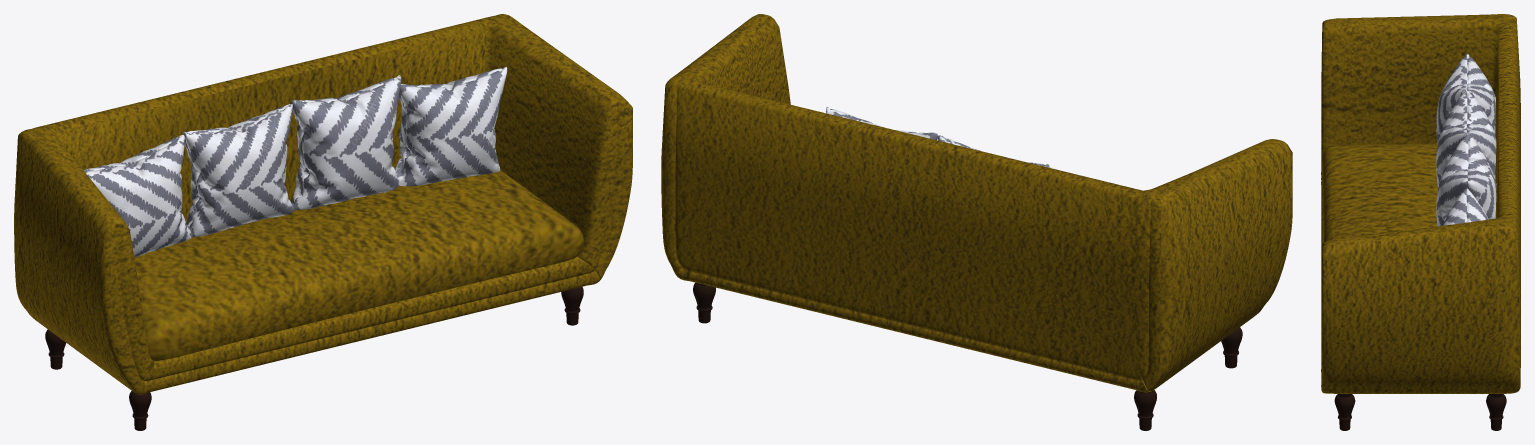
3 views of the same model, side by side, from view 1: azimuth 30°, elevation 25°; view 2: azimuth 150°, elevation 25°; view 3: azimuth 270°, elevation 25° (orthographic). The views are drawn at different scales.
Visible parts, largest first — view 1: couch, seat, pillow_03_geo, Legs_02_geo; view 2: couch, Legs_02_geo, pillow_03_geo; view 3: couch, seat, pillow_03_geo, Legs_02_geo.
Boxes of the visible parts, left/top/right/bottom form: couch: left=14, top=14, right=632, bottom=394; seat: left=134, top=170, right=583, bottom=360; pillow_03_geo: left=83, top=66, right=507, bottom=257; Legs_02_geo: left=45, top=287, right=583, bottom=430; couch: left=661, top=14, right=1292, bottom=392; Legs_02_geo: left=693, top=282, right=1242, bottom=430; pillow_03_geo: left=826, top=107, right=1055, bottom=169; couch: left=1321, top=14, right=1520, bottom=393; seat: left=1322, top=143, right=1438, bottom=242; pillow_03_geo: left=1436, top=54, right=1496, bottom=226; Legs_02_geo: left=1334, top=394, right=1506, bottom=430.
Bounding box in the file's own units: 2.09 × 0.8926 × 0.7535.
4 materials, 3 textured.
